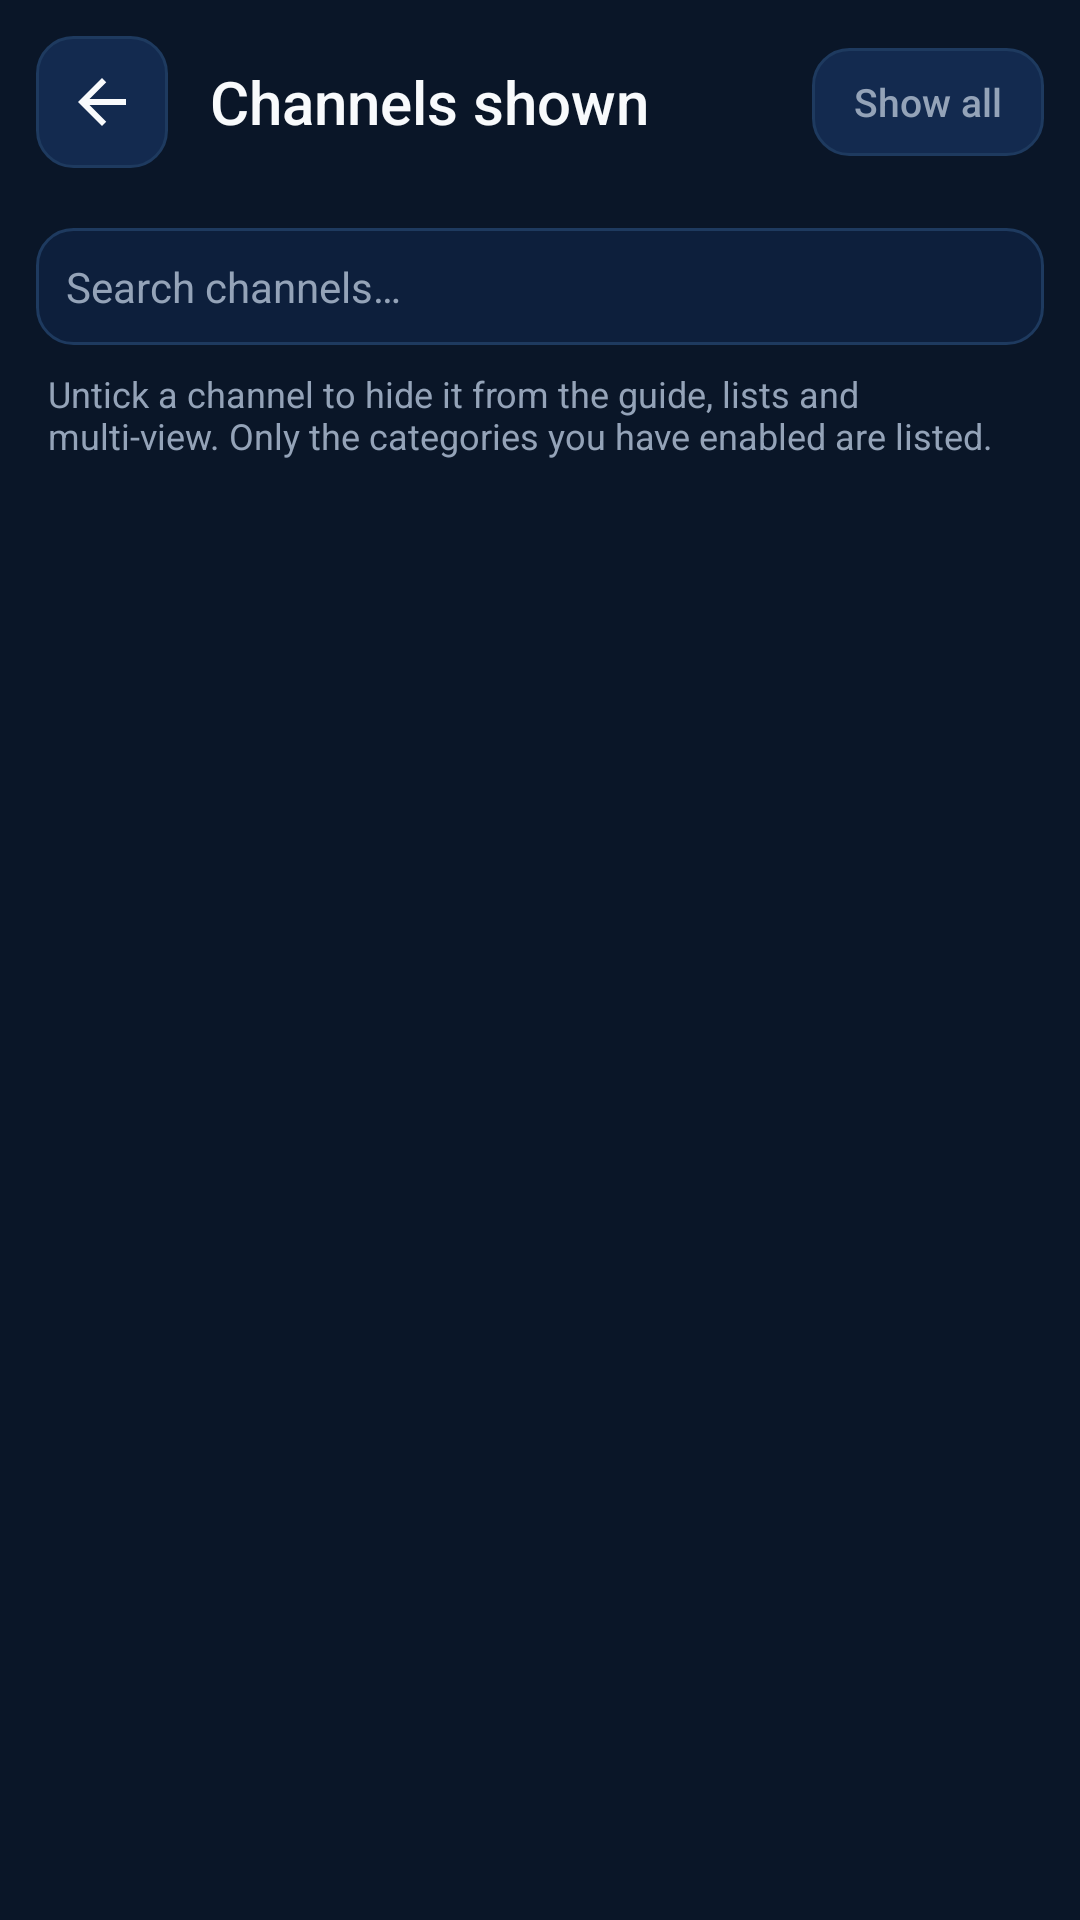

Named icons in this screenshot (1080 × 1920) and their bounding boxes, (x1, y1, x2, y2):
Back: (36, 36, 168, 168)
